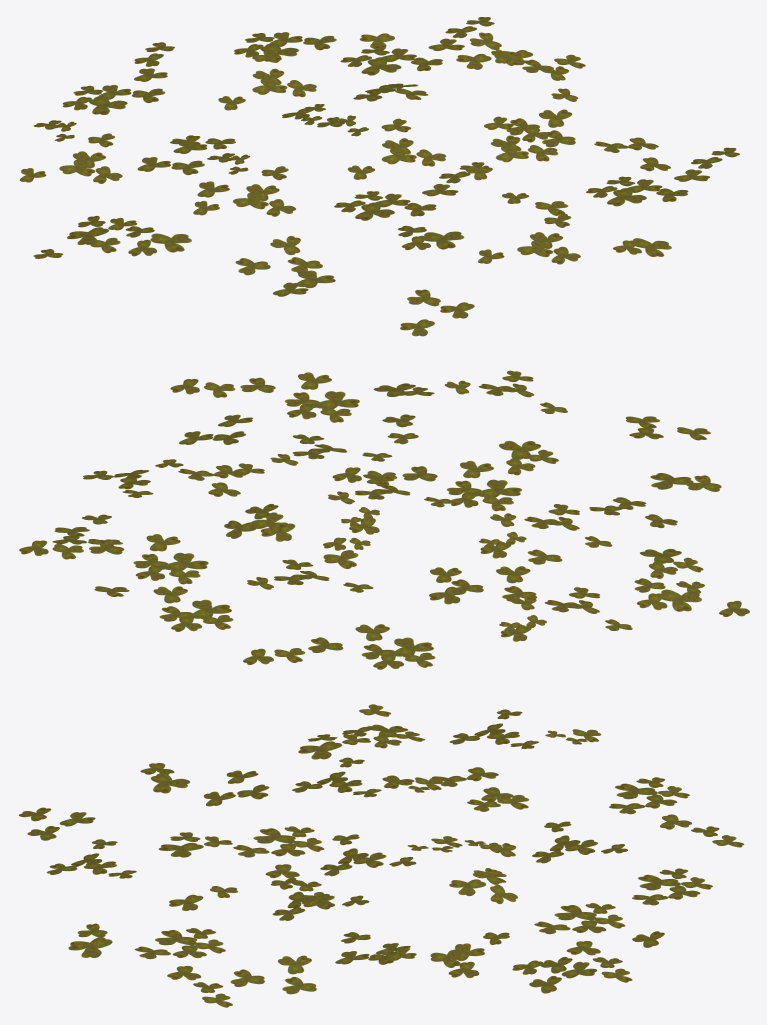
The model's file is mound.glb.
The picture shows the model from 3 angles, top to bottom: view 1: azimuth 30°, elevation 25°; view 2: azimuth 150°, elevation 25°; view 3: azimuth 270°, elevation 25°; orthographic projection. The views are drawn at different scales.
Visible parts, largest first — view 1: Cube; view 2: Cube; view 3: Cube.
Boxes of the visible parts, bbox=[...] form: Cube: bbox=[19, 17, 739, 336]; Cube: bbox=[19, 370, 749, 669]; Cube: bbox=[19, 704, 744, 1007].
Size of the model in its own units: 15.4 by 0.9206 by 15.02.
1 material, 1 textured.
